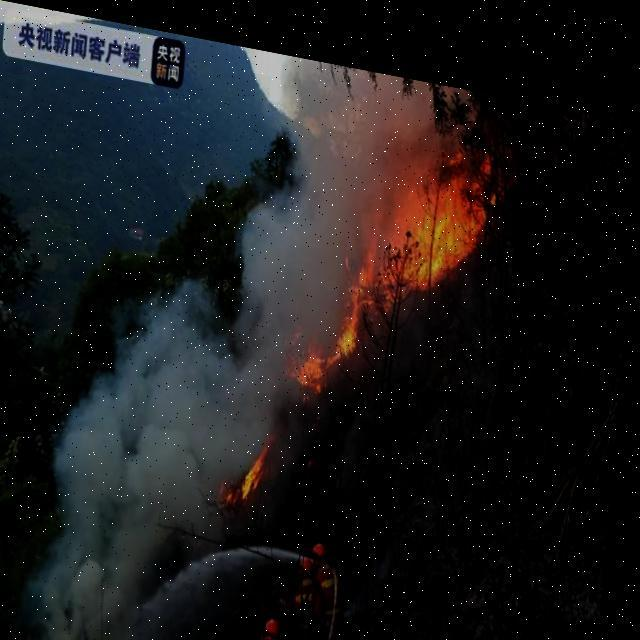Fire: (300, 103, 507, 404), (225, 418, 283, 500)
